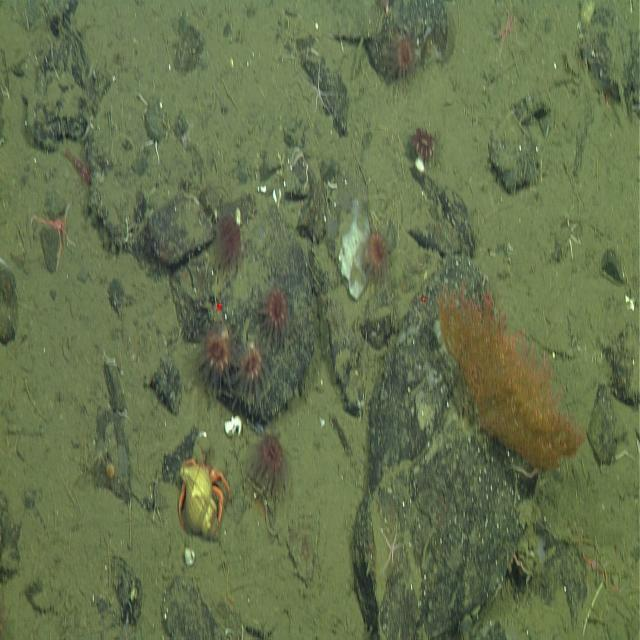Brittle Star: (30, 199, 80, 272), (300, 60, 336, 120), (489, 5, 522, 64), (377, 520, 406, 578), (288, 143, 312, 189), (508, 547, 533, 591)
Not Brittle Star: (431, 273, 589, 478), (176, 452, 232, 547), (245, 426, 294, 506), (195, 314, 239, 402), (334, 192, 367, 302), (210, 208, 248, 282), (360, 215, 398, 288), (257, 278, 294, 347), (236, 337, 270, 402), (59, 139, 96, 195), (408, 120, 440, 178), (389, 28, 420, 85), (182, 544, 197, 570)
